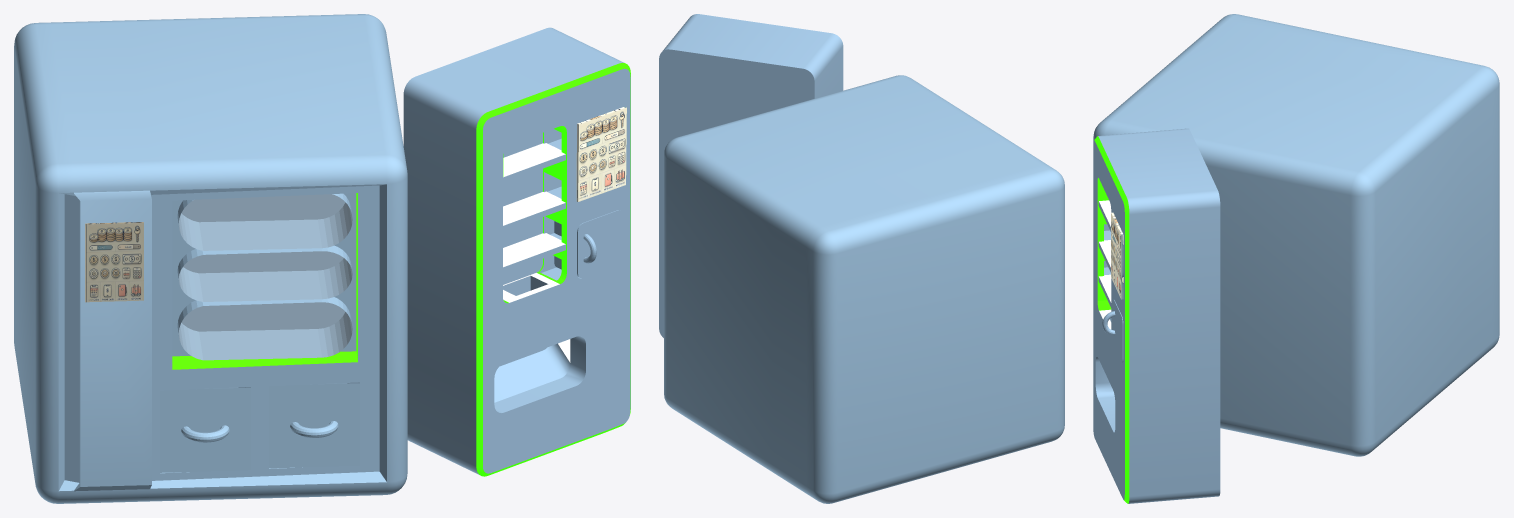
The model's file is модель_для_сайта.gltf.
3 renders of one model, left to right at view 1: azimuth 30°, elevation 25°; view 2: azimuth 150°, elevation 25°; view 3: azimuth 270°, elevation 25°, orthographic. The views are drawn at different scales.
Parts seen in each view (by area): view 1: BODY.001, main part, коробка.003, коробка.002, SCREEN.001, order screen, main part.001, Cube.002, Cube.001, Cube; view 2: BODY.001, main part; view 3: BODY.001, main part, order screen, main part.001.
Part boxes in pixels (x1=…): BODY.001: x1=14, y1=14, x2=407, y2=503; main part: x1=403, y1=27, x2=630, y2=476; коробка.003: x1=269, y1=382, x2=359, y2=468; коробка.002: x1=160, y1=387, x2=250, y2=472; SCREEN.001: x1=85, y1=222, x2=143, y2=302; order screen: x1=576, y1=106, x2=626, y2=201; main part.001: x1=577, y1=210, x2=623, y2=278; Cube.002: x1=503, y1=233, x2=565, y2=272; Cube.001: x1=503, y1=191, x2=565, y2=231; Cube: x1=503, y1=143, x2=565, y2=183; BODY.001: x1=664, y1=75, x2=1064, y2=503; main part: x1=659, y1=14, x2=843, y2=337; BODY.001: x1=1093, y1=14, x2=1499, y2=456; main part: x1=1093, y1=128, x2=1220, y2=503; order screen: x1=1111, y1=212, x2=1123, y2=299; main part.001: x1=1102, y1=300, x2=1123, y2=362.
Bounding box in the file's own units: 6.56 × 4.3 × 5.2.
9 materials, 2 textured.
